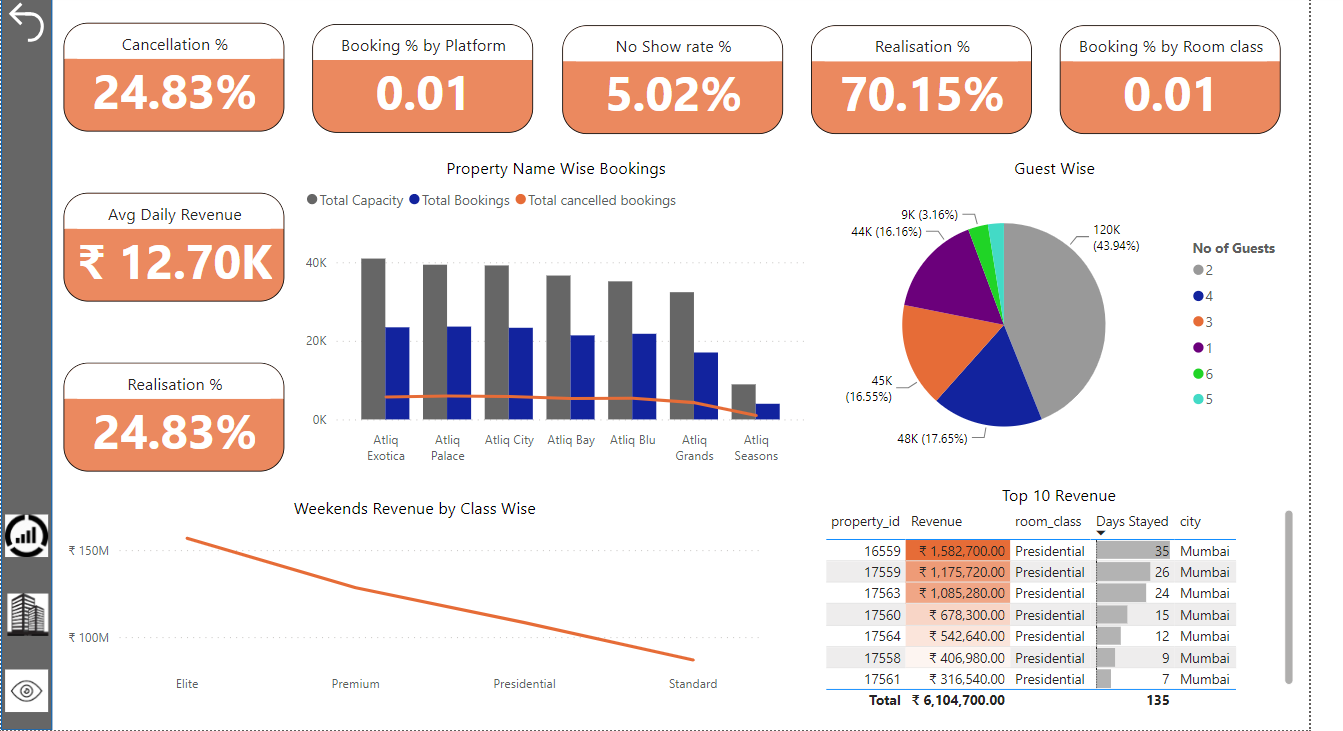

What the dashboard file says about the page in this screenshot:
{"tool":"powerbi","page":{"name":"Overall View","canvas":[1280,720],"ordinal":2},"visuals":[{"type":"card","title":"Cancellation %","fields":{"Values":["Measures (2).Cancellation %"]},"box":[61.1,28.1,216.4,106.3],"z":0},{"type":"card","title":"No Show rate %","fields":{"Values":["Measures (2).No Show rate %"]},"box":[548.3,30.6,216.4,106.3],"z":1000},{"type":"card","title":"Realisation %","fields":{"Values":["Measures (2).Realisation %"]},"box":[791.8,30.6,216.4,106.3],"z":2000},{"type":"card","title":"Booking % by Platform","fields":{"Values":["Measures (2).Booking % by Platform"]},"box":[304.7,29.3,216.4,106.3],"z":3000},{"type":"card","title":"Booking % by Room class","fields":{"Values":["Measures (2).Booking % by Room class"]},"box":[1035.4,30.6,216.4,106.3],"z":4000},{"type":"card","title":"Realisation %","fields":{"Values":["Measures (2).Cancellation %"]},"box":[61.1,360.6,216.4,106.3],"z":5000},{"type":"card","title":"Avg Daily Revenue","fields":{"Values":["Measures (2).ADR"]},"box":[61.1,194.4,216.4,106.3],"z":6000},{"type":"shape","box":[0,0,50.1,720],"z":7000},{"type":"lineClusteredColumnComboChart","title":"Property Name Wise Bookings","fields":{"Category":["hotels.property_name"],"Y":["Measures (2).Total Capacity","Measures (2).Total Bookings"],"Y2":["Measures (2).Total cancelled bookings"]},"box":[293.4,158.9,498.7,308],"z":8000},{"type":"tableEx","title":"Top 10 Revenue","fields":{"Values":["hotels.property_id","Measures (2).Revenue","rooms.room_class","CountNonNull(fact_bookings.Days Stayed)","hotels.city"]},"box":[800.7,478,468.2,227.4],"z":9000},{"type":"pieChart","title":"Guest Wise","fields":{"Y":["Sum(fact_bookings.no_guests)"],"Category":["fact_bookings.no_guests"]},"box":[792.1,158.9,476.7,308],"z":10000},{"type":"lineChart","title":"Weekends Revenue by Class Wise","fields":{"Category":["rooms.room_class"],"Y":["Measures (2).Revenue"]},"box":[61.1,491.4,687,201.7],"z":11000},{"type":"actionButton","box":[1.2,568.4,50.1,77],"z":12000},{"type":"actionButton","box":[0,643,50.1,77],"z":13000},{"type":"actionButton","box":[0,491.4,50.1,77],"z":14000},{"type":"actionButton","box":[0,0,50.1,55],"z":15000}]}

Visuals, with their boxes on the page's 1280x720 design canvas (x1, y1, x2, y2). These are canvas units, not pixel positions in the 1343x731 screenshot, which may show the page scaled, cropped or inside an application window:
"Cancellation %" card: bbox=(61, 28, 278, 134)
"No Show rate %" card: bbox=(548, 31, 765, 137)
"Realisation %" card: bbox=(792, 31, 1008, 137)
"Booking % by Platform" card: bbox=(305, 29, 521, 136)
"Booking % by Room class" card: bbox=(1035, 31, 1252, 137)
"Realisation %" card: bbox=(61, 361, 278, 467)
"Avg Daily Revenue" card: bbox=(61, 194, 278, 301)
shape: bbox=(0, 0, 50, 720)
"Property Name Wise Bookings" lineClusteredColumnComboChart: bbox=(293, 159, 792, 467)
"Top 10 Revenue" tableEx: bbox=(801, 478, 1269, 705)
"Guest Wise" pieChart: bbox=(792, 159, 1269, 467)
"Weekends Revenue by Class Wise" lineChart: bbox=(61, 491, 748, 693)
actionButton: bbox=(1, 568, 51, 645)
actionButton: bbox=(0, 643, 50, 720)
actionButton: bbox=(0, 491, 50, 568)
actionButton: bbox=(0, 0, 50, 55)
